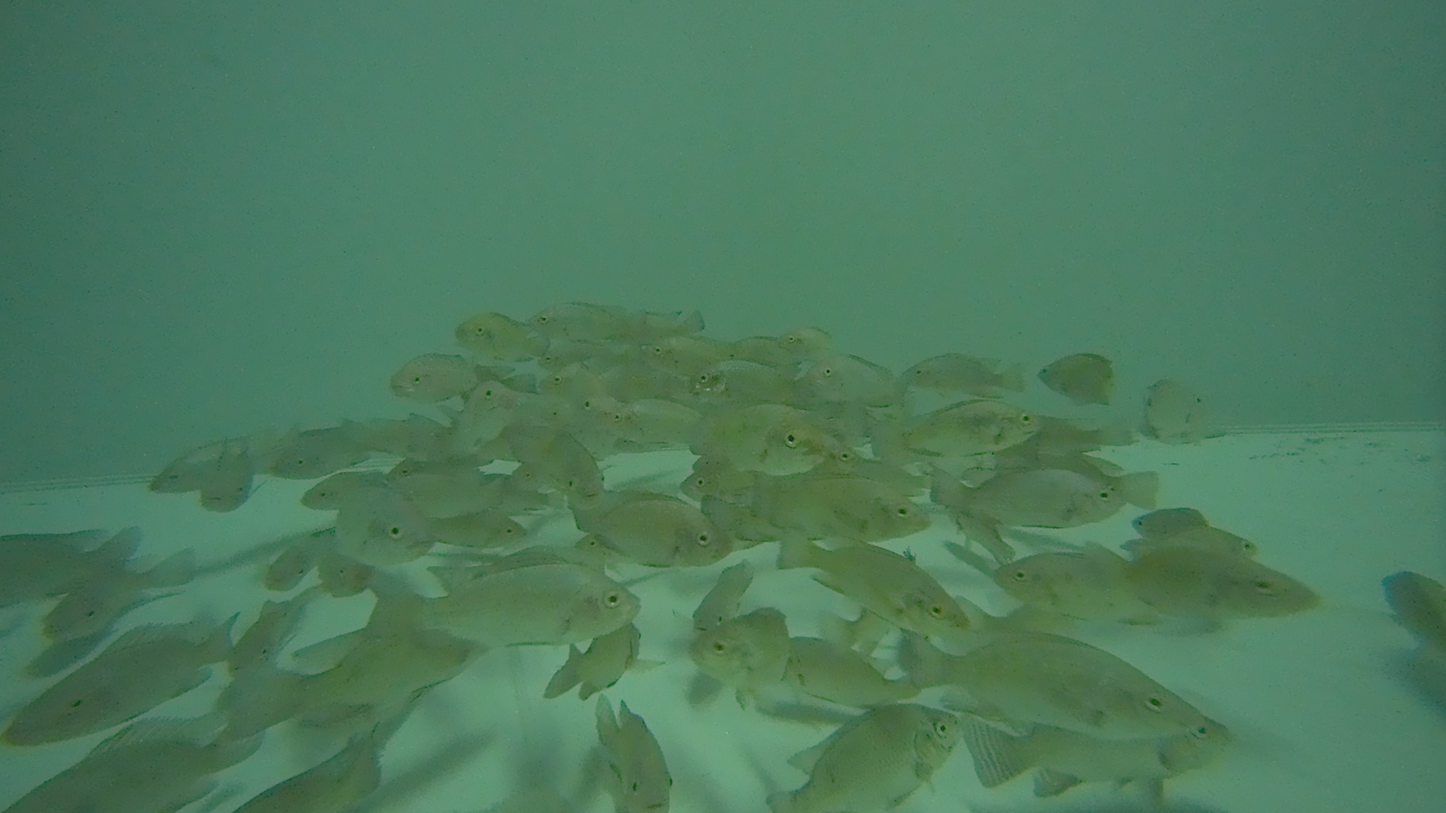fish: (365, 559, 646, 645), (699, 477, 932, 540), (921, 467, 1126, 526), (867, 402, 1038, 460), (528, 302, 649, 342)
